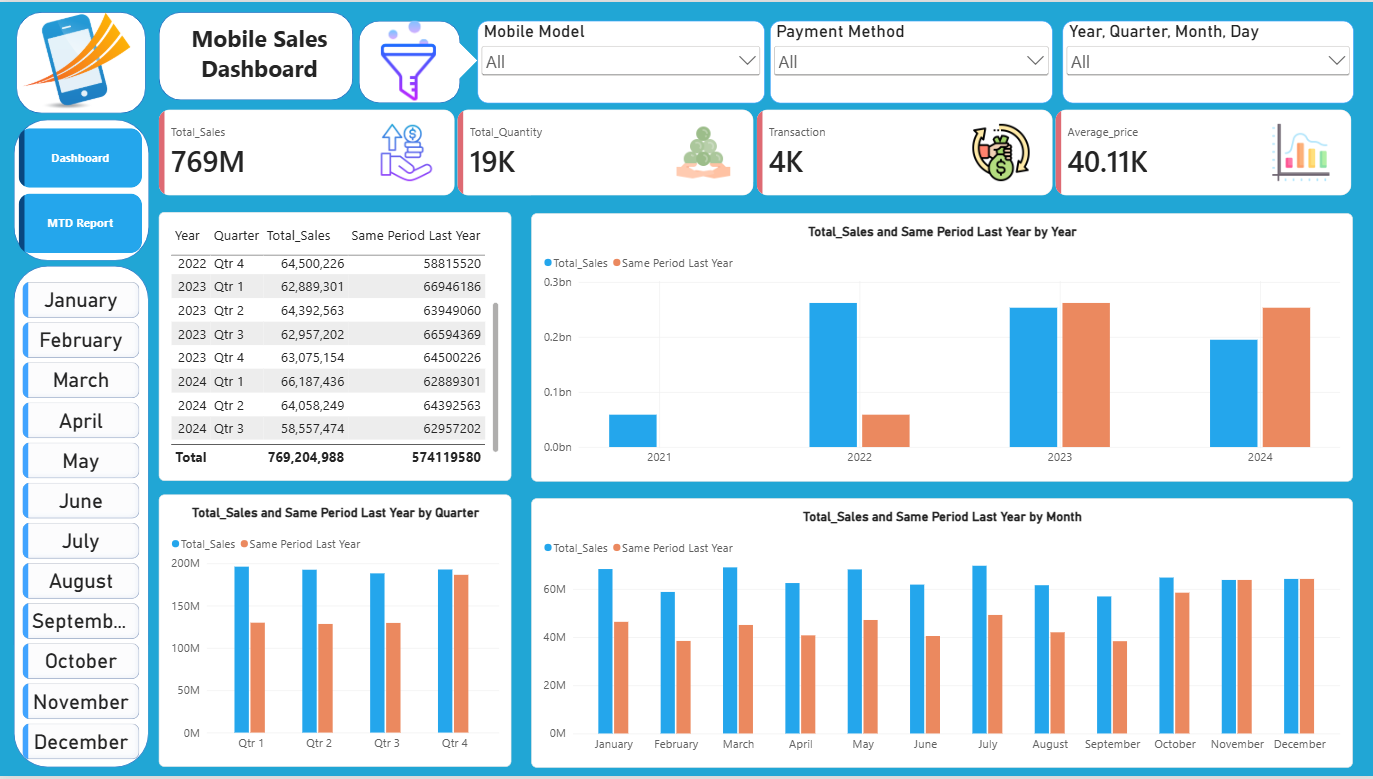

This screenshot's page, from the dashboard's own definition file:
{"tool":"powerbi","page":{"name":"Same Period Last Year","canvas":[1920,1080],"ordinal":2},"visuals":[{"type":"shape","box":[18.5,164.3,189,197.2],"z":0},{"type":"shape","box":[18.3,368.3,188.3,700],"z":1000},{"type":"advancedSlicerVisual","fields":{"Values":["Custom_Calendar.Date.Variation.Date Hierarchy.Month"]},"box":[31.4,390.7,164,676.7],"z":2000},{"type":"cardVisual","fields":{"Data":["Mobile_Sales_Data.Total_Sales","Mobile_Sales_Data.Total_Quantity","Mobile_Sales_Data.transaction","Mobile_Sales_Data.Average_price"]},"box":[221.5,150,1667.4,120.3],"z":3000},{"type":"slicer","fields":{"Values":["Mobile_Sales_Data.Mobile Model"]},"box":[665.5,26.7,400.5,115],"z":4000},{"type":"slicer","fields":{"Values":["Mobile_Sales_Data.Payment Method"]},"box":[1074.2,26.7,394.4,115],"z":5000},{"type":"slicer","fields":{"Values":["Custom_Calendar.Date.Variation.Date Hierarchy.Year","Custom_Calendar.Date.Variation.Date Hierarchy.Quarter","Custom_Calendar.Date.Variation.Date Hierarchy.Month","Custom_Calendar.Date.Variation.Date Hierarchy.Day"]},"box":[1482.9,26.7,406.7,115],"z":6000},{"type":"shape","box":[501.2,26.7,141.7,115],"z":7000},{"type":"image","box":[497,26.7,145.8,110.9],"z":8000},{"type":"shape","box":[608,53.4,57.5,55.5],"z":9000},{"type":"shape","box":[22.6,14.4,180.7,141.7],"z":10000},{"type":"image","box":[30.8,6.2,150,150],"z":11000},{"type":"shape","box":[221.8,14.4,271.1,123.2],"z":12000},{"type":"textbox","box":[258.8,28.8,207.4,94.5],"z":13000},{"type":"tableEx","fields":{"Values":["Custom_Calendar.Date.Variation.Date Hierarchy.Year","Custom_Calendar.Date.Variation.Date Hierarchy.Quarter","Mobile_Sales_Data.Total_Sales","Mobile_Sales_Data.Same Period Last Year"]},"box":[221.7,293.3,491.7,375],"z":14000},{"type":"clusteredColumnChart","fields":{"Category":["Custom_Calendar.Date.Variation.Date Hierarchy.Year","Custom_Calendar.Date.Variation.Date Hierarchy.Quarter"],"Y":["Mobile_Sales_Data.Total_Sales","Mobile_Sales_Data.Same Period Last Year"]},"box":[742,294,1146,374],"z":15000},{"type":"clusteredColumnChart","fields":{"Category":["Custom_Calendar.Date.Variation.Date Hierarchy.Year","Custom_Calendar.Date.Variation.Date Hierarchy.Quarter"],"Y":["Mobile_Sales_Data.Total_Sales","Mobile_Sales_Data.Same Period Last Year"]},"box":[222,688,492,380],"z":16000},{"type":"clusteredColumnChart","fields":{"Category":["Custom_Calendar.Date.Variation.Date Hierarchy.Year","Custom_Calendar.Date.Variation.Date Hierarchy.Quarter","Custom_Calendar.Date.Variation.Date Hierarchy.Month","Custom_Calendar.Date.Variation.Date Hierarchy.Day"],"Y":["Mobile_Sales_Data.Total_Sales","Mobile_Sales_Data.Same Period Last Year"]},"box":[742,692,1146,376],"z":17000},{"type":"pageNavigator","box":[26,176,172,174],"z":18000}]}

Visuals, with their boxes in screenshot pixels (x1, y1, x2, y2), scaled from the page's 1920x1080 canvas onto the 1373x779 screenshot:
shape: region(13, 119, 148, 261)
shape: region(13, 266, 148, 771)
advancedSlicerVisual - Custom_Calendar.Date.Variation.Date Hierarchy.Month: region(22, 282, 140, 770)
cardVisual - Mobile_Sales_Data.Total_Sales x Mobile_Sales_Data.Total_Quantity: region(158, 108, 1351, 195)
slicer - Mobile_Sales_Data.Mobile Model: region(476, 19, 762, 102)
slicer - Mobile_Sales_Data.Payment Method: region(768, 19, 1050, 102)
slicer - Custom_Calendar.Date.Variation.Date Hierarchy.Year x Custom_Calendar.Date.Variation.Date Hierarchy.Quarter: region(1060, 19, 1351, 102)
shape: region(358, 19, 460, 102)
image: region(355, 19, 460, 99)
shape: region(435, 39, 476, 79)
shape: region(16, 10, 145, 113)
image: region(22, 4, 129, 113)
shape: region(159, 10, 352, 99)
textbox: region(185, 21, 333, 89)
tableEx - Custom_Calendar.Date.Variation.Date Hierarchy.Year x Custom_Calendar.Date.Variation.Date Hierarchy.Quarter: region(159, 212, 510, 482)
clusteredColumnChart - Custom_Calendar.Date.Variation.Date Hierarchy.Year x Custom_Calendar.Date.Variation.Date Hierarchy.Quarter: region(531, 212, 1350, 482)
clusteredColumnChart - Custom_Calendar.Date.Variation.Date Hierarchy.Year x Custom_Calendar.Date.Variation.Date Hierarchy.Quarter: region(159, 496, 511, 770)
clusteredColumnChart - Custom_Calendar.Date.Variation.Date Hierarchy.Year x Custom_Calendar.Date.Variation.Date Hierarchy.Quarter: region(531, 499, 1350, 770)
pageNavigator: region(19, 127, 142, 252)
